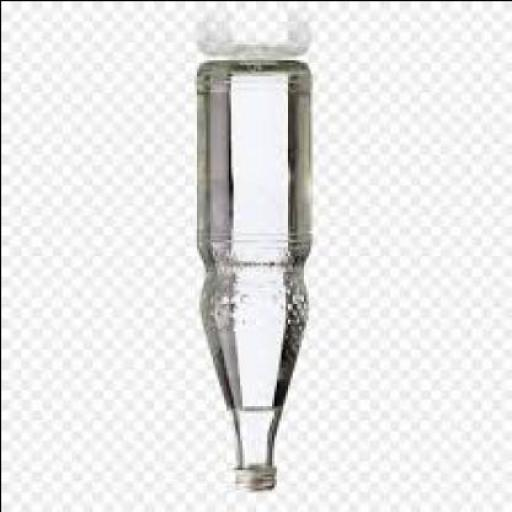glass: (198, 63, 316, 471)
metal: (238, 474, 280, 493)
